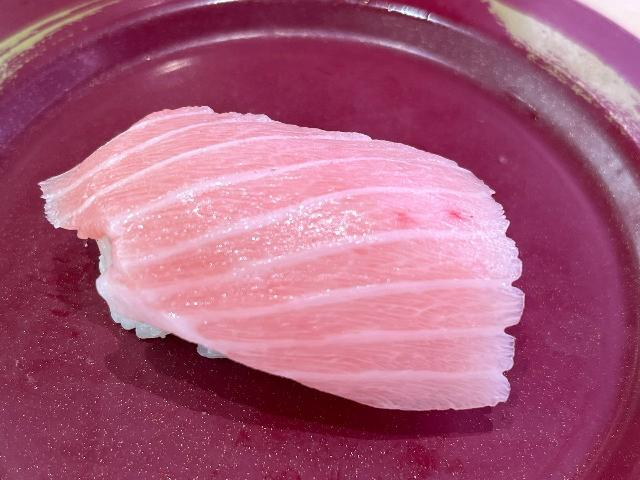janred: (37, 18, 595, 446)
